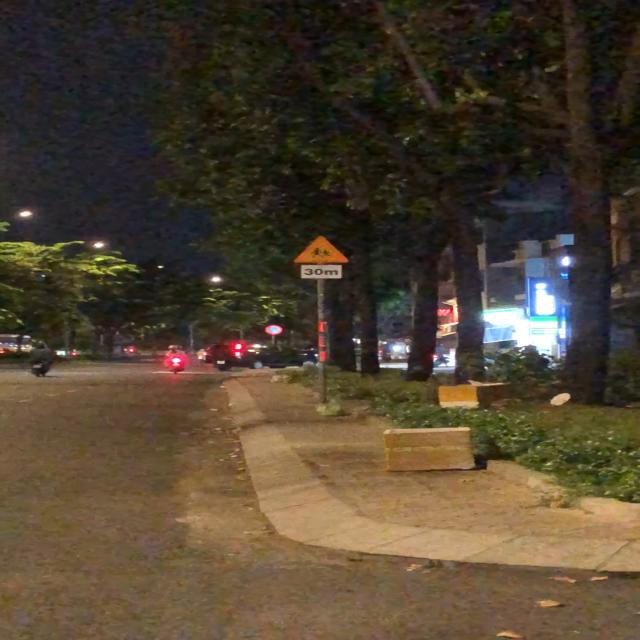Bien bao tre em: (292, 234, 349, 265)
